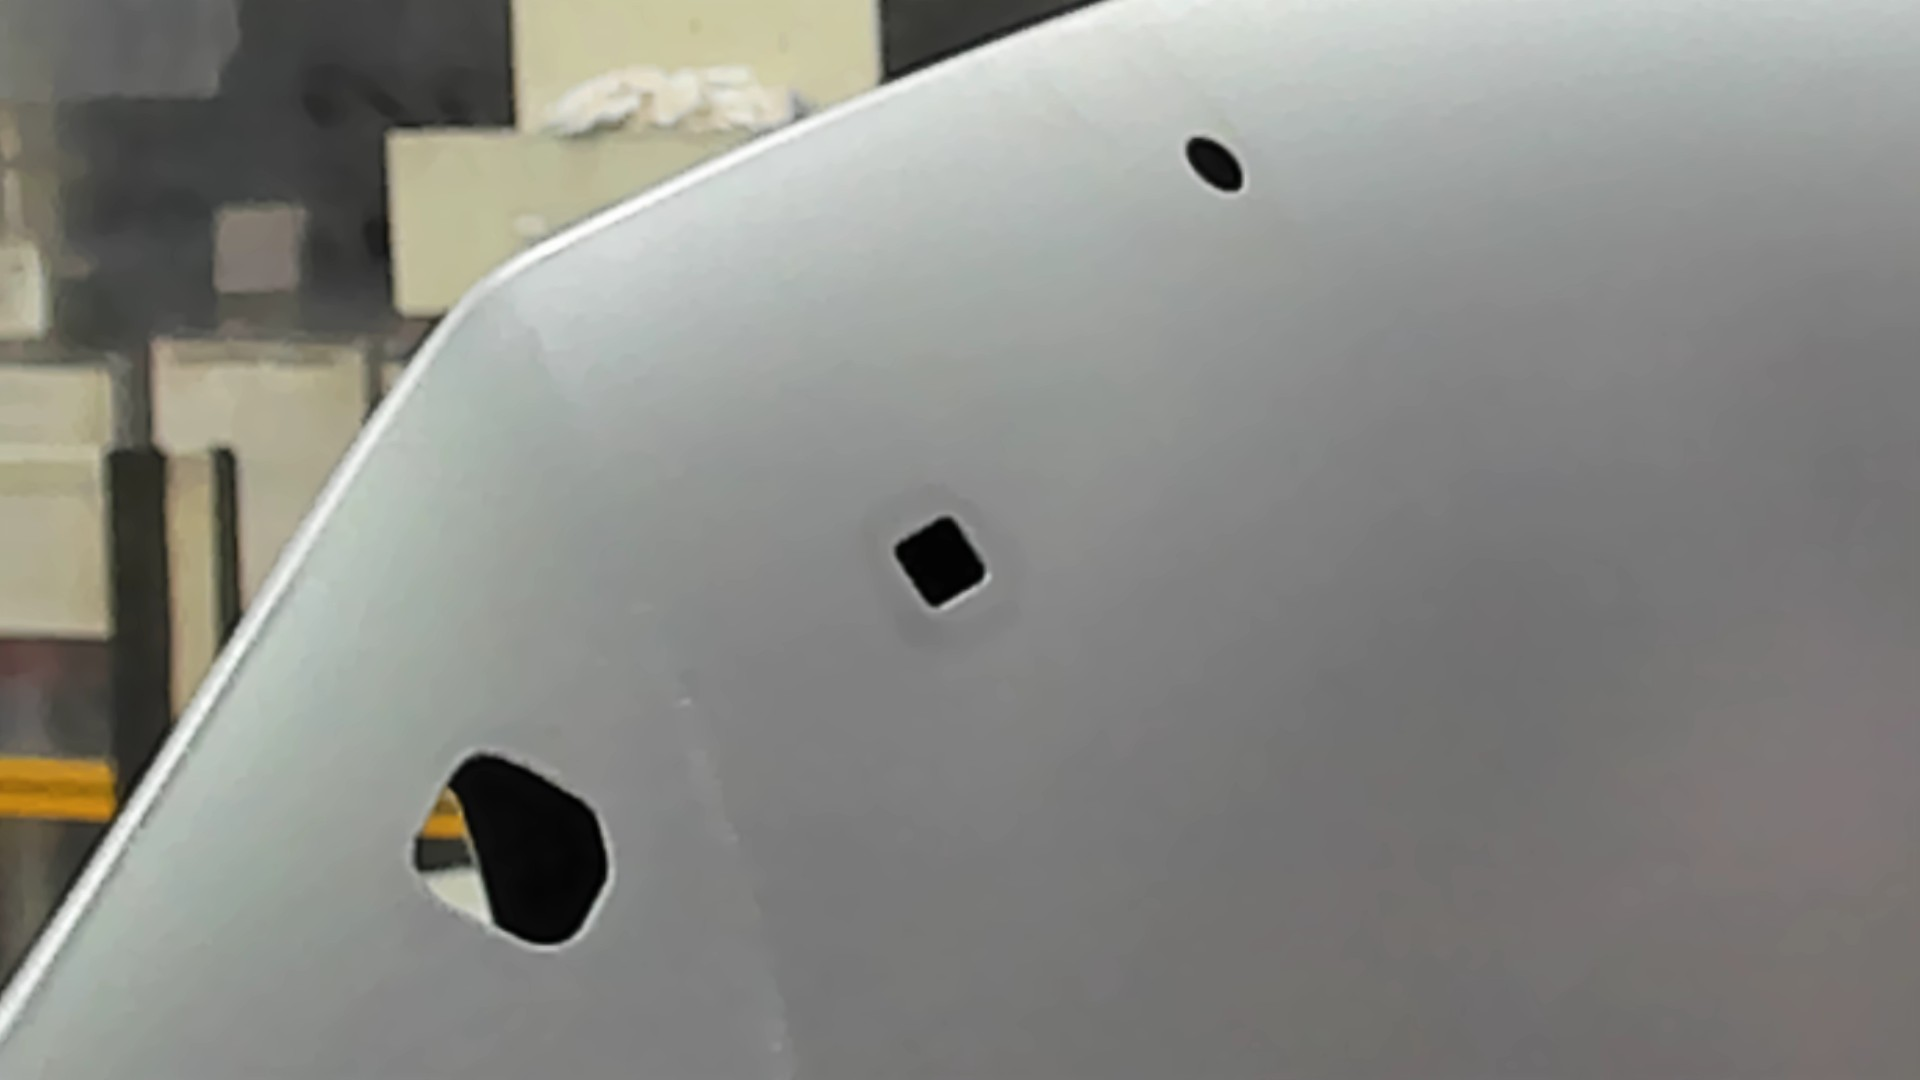chico: (1182, 131, 1247, 200)
grande: (406, 745, 620, 953)
mediano: (884, 506, 996, 618)
